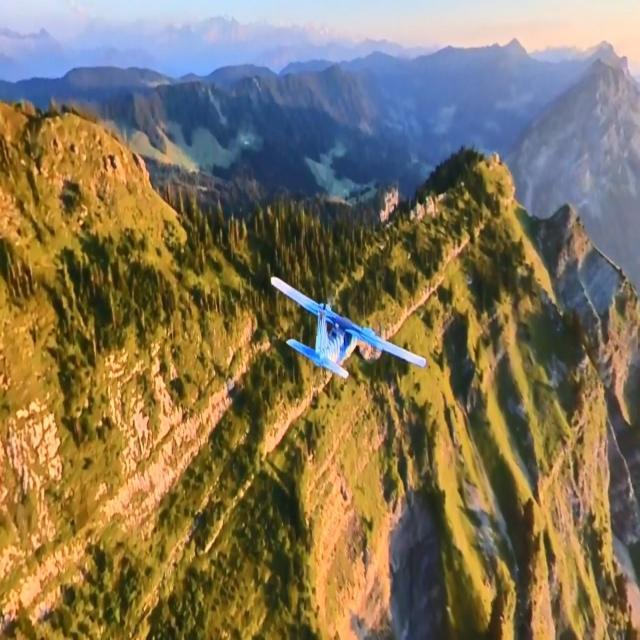iha: (250, 269, 441, 400)
